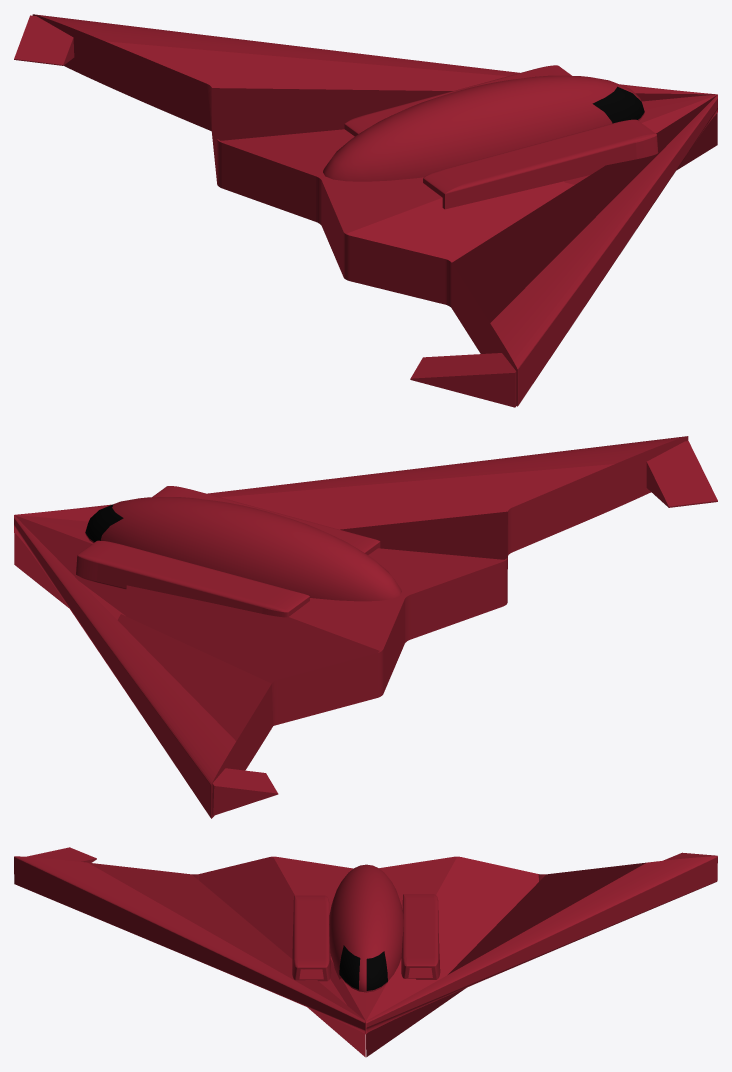
The picture shows the model from 3 angles, top to bottom: view 1: azimuth 30°, elevation 25°; view 2: azimuth 150°, elevation 25°; view 3: azimuth 270°, elevation 25°; orthographic projection. The views are drawn at different scales.
Visible parts, largest first — view 1: Cube, 球体, 立方体.001, 立方体.003, 立方体.002, 立方体; view 2: Cube, 球体, 立方体, 立方体.003, 立方体.002, 立方体.001; view 3: Cube, 球体, 立方体.001, 立方体, 立方体.003.
Boxes of the visible parts, left/top/right/bottom form: Cube: left=32, top=14, right=717, bottom=406; 球体: left=323, top=75, right=644, bottom=181; 立方体.001: left=423, top=119, right=658, bottom=209; 立方体.003: left=410, top=353, right=516, bottom=407; 立方体.002: left=14, top=15, right=74, bottom=65; 立方体: left=344, top=65, right=571, bottom=136; Cube: left=14, top=436, right=688, bottom=818; 球体: left=85, top=497, right=401, bottom=601; 立方体: left=76, top=540, right=309, bottom=617; 立方体.003: left=646, top=441, right=717, bottom=507; 立方体.002: left=212, top=768, right=278, bottom=815; 立方体.001: left=152, top=486, right=380, bottom=554; Cube: left=14, top=856, right=717, bottom=1057; 球体: left=329, top=864, right=403, bottom=992; 立方体.001: left=292, top=895, right=331, bottom=981; 立方体: left=401, top=894, right=440, bottom=979; 立方体.003: left=27, top=847, right=96, bottom=862.
Size of the model in its own units: 4.77 by 0.9935 by 7.83.
